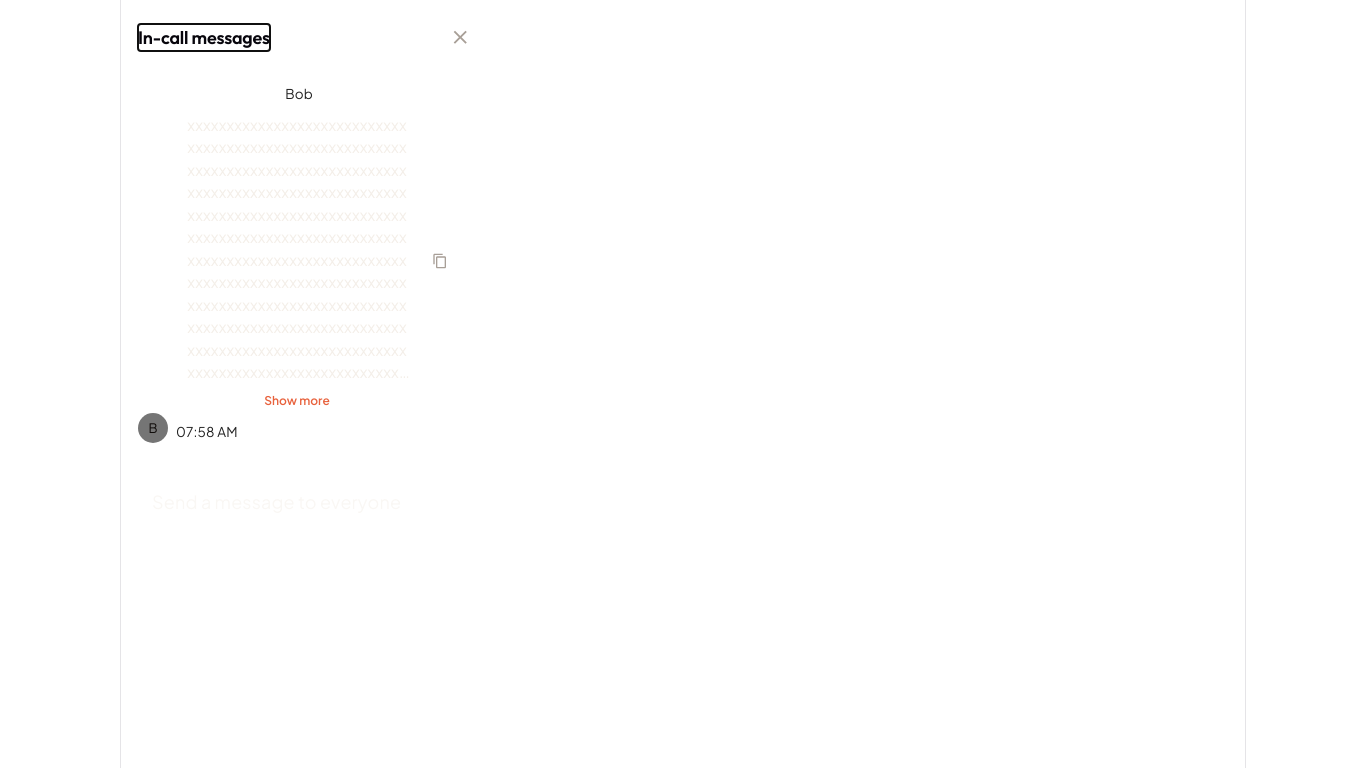
it: ChatPanel › long-message rendering › expands on Show more and re-collapses on Show less
What coordinates should you click on to do the following:
click the button "Show more"
I would click on:
 (297, 401)
Its box is [264,392,330,409].
(page scrolled)
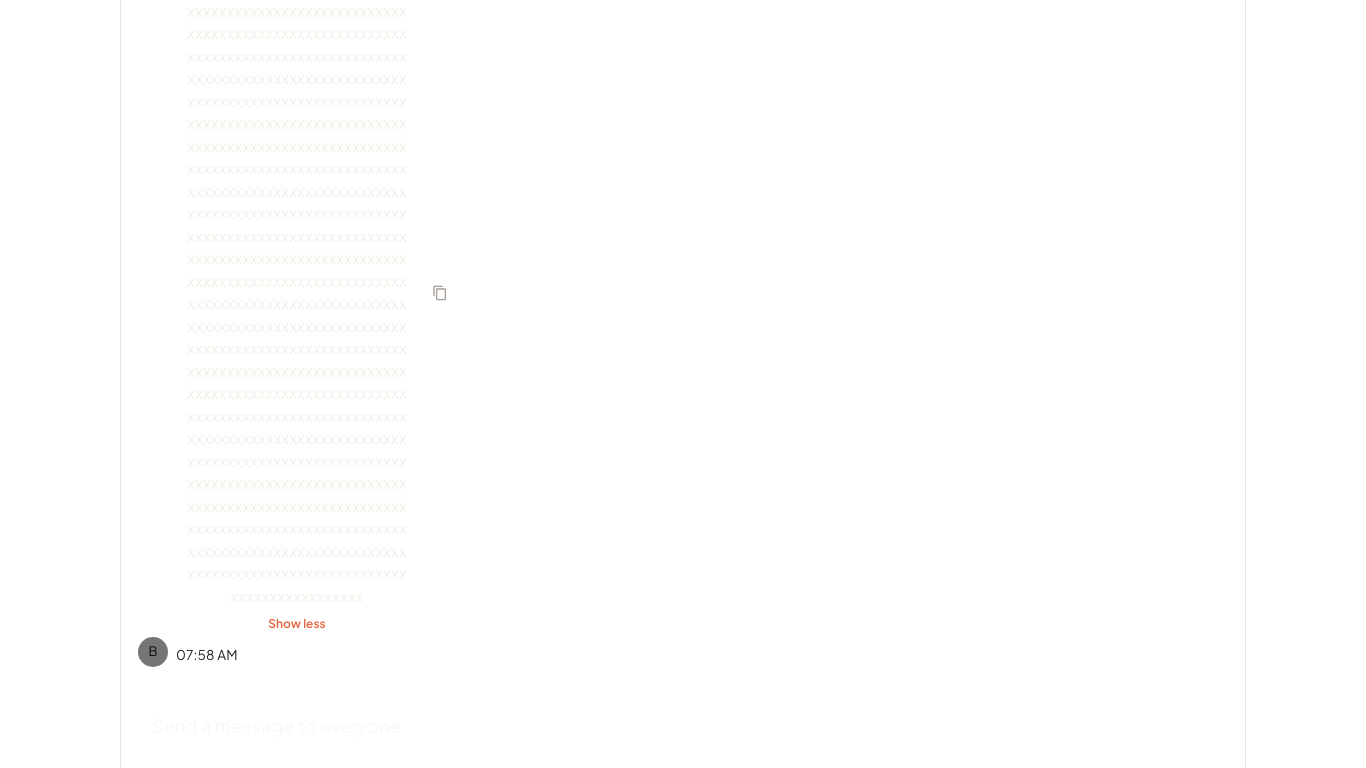
Expected: the button "Show less" is shown
Expected: the button "Show less" is expanded
Expected: the button "Show more" is gone
What coordinates should you click on to do the following:
click the button "Show less"
I would click on:
 (297, 625)
Its box is [268,616,326,633].
(page scrolled)
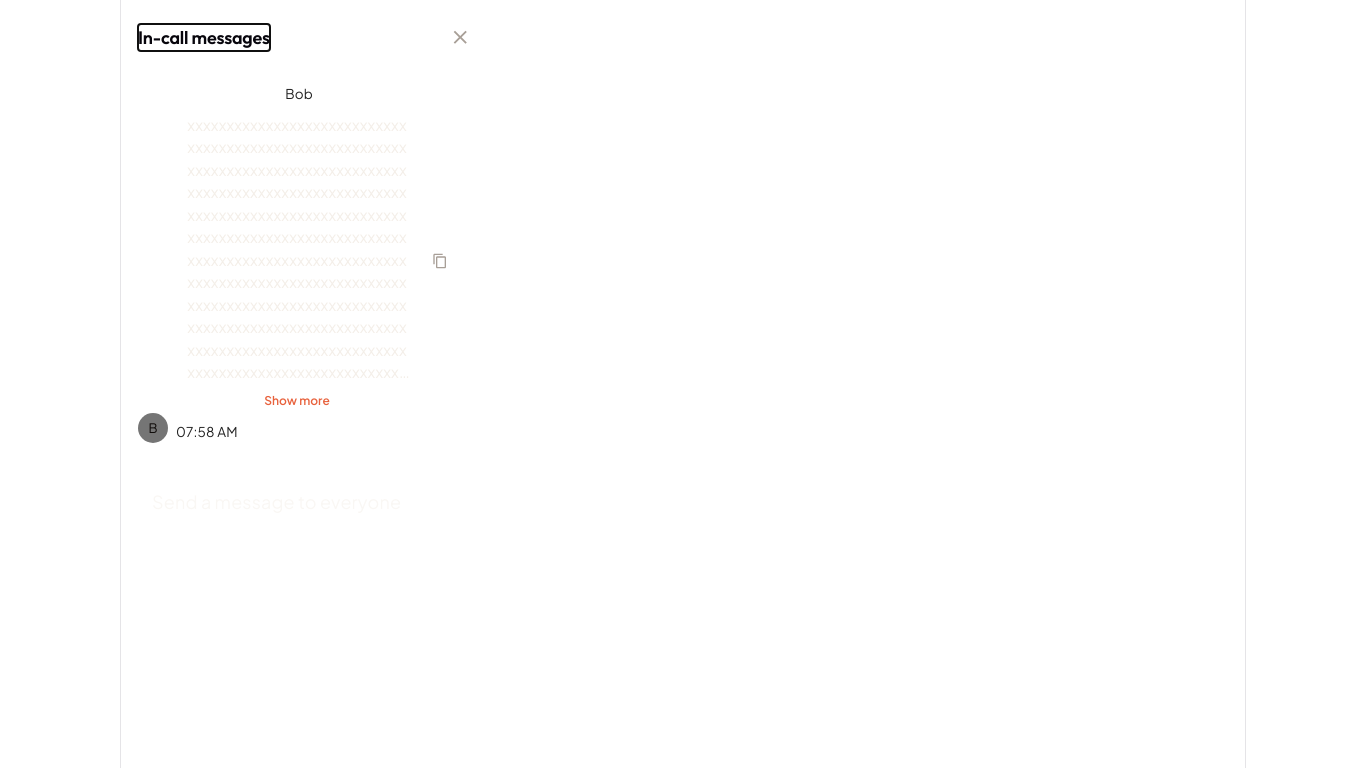
Expected: the button "Show more" is collapsed, [264,392,330,409]
Expected: the button "Show less" is gone
